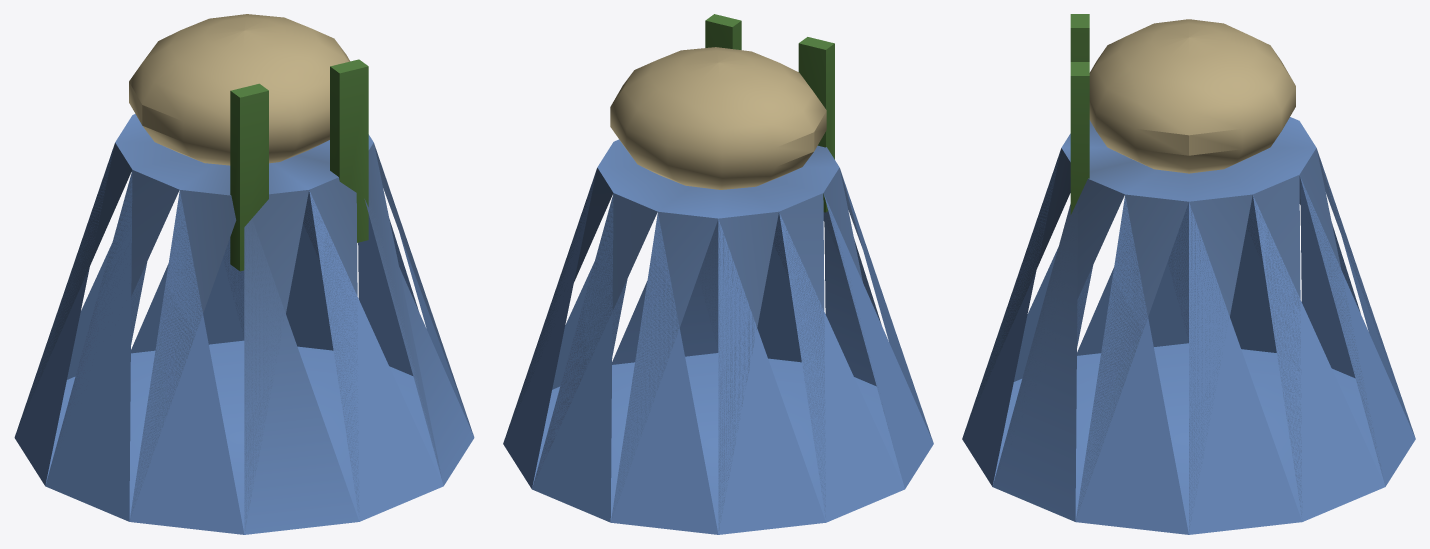
Rendered from boy-flower-body.glb.
3 views of the same model, side by side, from view 1: azimuth 30°, elevation 25°; view 2: azimuth 150°, elevation 25°; view 3: azimuth 270°, elevation 25° (orthographic). The views are drawn at different scales.
Parts seen in each view (by area): view 1: player_boy-flower:body; view 2: player_boy-flower:body; view 3: player_boy-flower:body.
Boxes of the visible parts, x1=… form: player_boy-flower:body: x1=14, y1=14, x2=474, y2=534; player_boy-flower:body: x1=503, y1=14, x2=933, y2=534; player_boy-flower:body: x1=962, y1=14, x2=1415, y2=534.
Size of the model in its own units: 0.48 by 0.4688 by 0.48.
